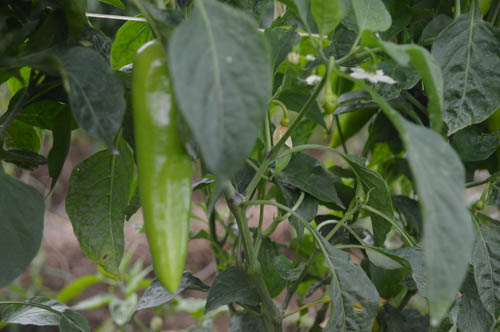ChiliPepper: (135, 39, 186, 296)
